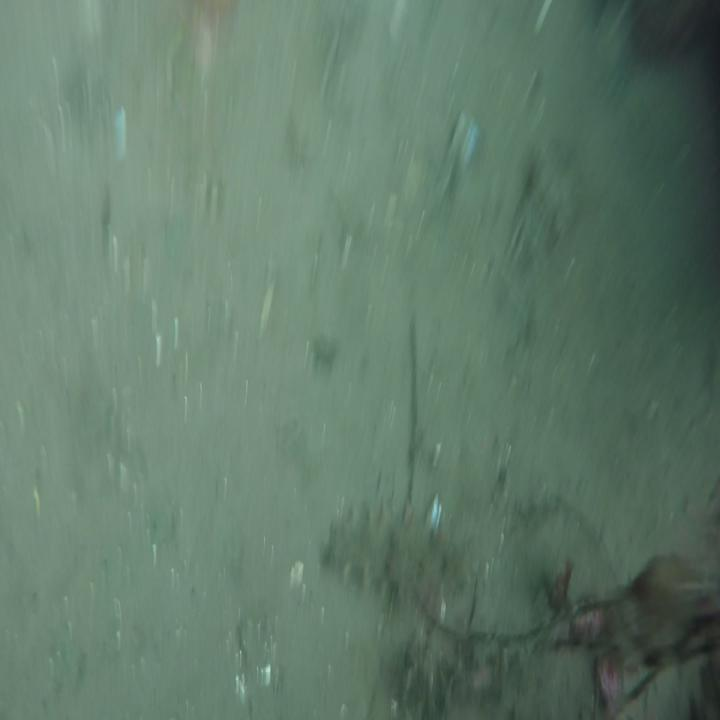holothurian: (321, 505, 468, 615)
